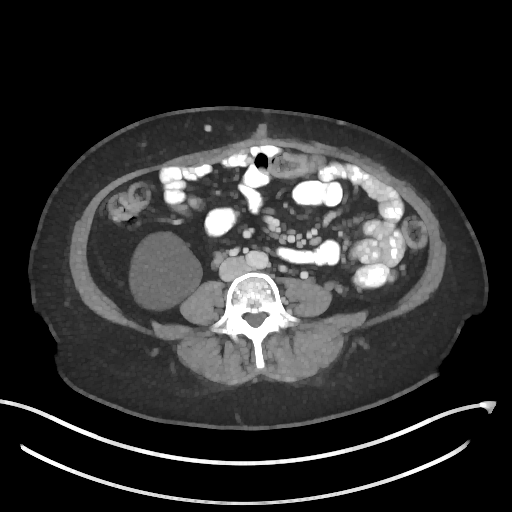Lesion: (124, 229, 204, 314)
